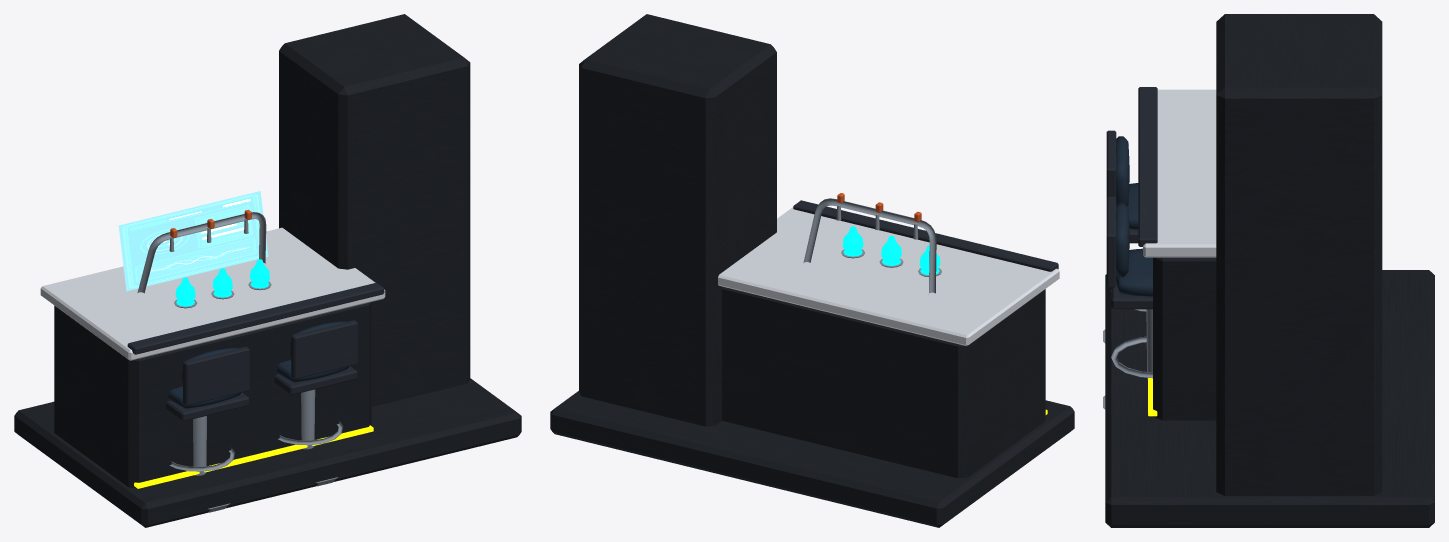
Rendered from lounge_bar_r1_01.glb.
3 renders of one model, left to right at view 1: azimuth 30°, elevation 25°; view 2: azimuth 150°, elevation 25°; view 3: azimuth 270°, elevation 25°, orthographic. The views are drawn at different scales.
Visible parts, largest first — view 1: Lounge01_OctagonalGunmetalChassis, Lounge01_AerospaceWhiteCounterAndNiches, Lounge01_CharcoalArmrestAndStoolShells, Lounge01_OLEDCelestialStarMapConsole, Lounge01_MachinedSteelSiphonArchAndPedestals, Lounge01_OrbitalNavyBarstoolCushions, Lounge01_CyanDecantersAndBulbGlasses, Lounge01_AmberDecantersAndFootrailGlow; view 2: Lounge01_OctagonalGunmetalChassis, Lounge01_AerospaceWhiteCounterAndNiches, Lounge01_CharcoalArmrestAndStoolShells, Lounge01_MachinedSteelSiphonArchAndPedestals, Lounge01_CyanDecantersAndBulbGlasses; view 3: Lounge01_OctagonalGunmetalChassis, Lounge01_AerospaceWhiteCounterAndNiches, Lounge01_CharcoalArmrestAndStoolShells, Lounge01_OrbitalNavyBarstoolCushions, Lounge01_MachinedSteelSiphonArchAndPedestals.
Part boxes in pixels (x1,y1,x2,y2): Lounge01_OctagonalGunmetalChassis: (14, 14, 521, 527); Lounge01_AerospaceWhiteCounterAndNiches: (40, 227, 385, 360); Lounge01_CharcoalArmrestAndStoolShells: (127, 282, 384, 421); Lounge01_OLEDCelestialStarMapConsole: (118, 191, 268, 291); Lounge01_MachinedSteelSiphonArchAndPedestals: (137, 212, 343, 512); Lounge01_OrbitalNavyBarstoolCushions: (168, 321, 349, 408); Lounge01_CyanDecantersAndBulbGlasses: (175, 259, 269, 306); Lounge01_AmberDecantersAndFootrailGlow: (134, 425, 373, 488); Lounge01_OctagonalGunmetalChassis: (550, 14, 1074, 527); Lounge01_AerospaceWhiteCounterAndNiches: (718, 207, 1059, 345); Lounge01_CharcoalArmrestAndStoolShells: (793, 200, 1058, 271); Lounge01_MachinedSteelSiphonArchAndPedestals: (803, 198, 941, 293); Lounge01_CyanDecantersAndBulbGlasses: (842, 226, 940, 275); Lounge01_OctagonalGunmetalChassis: (1105, 14, 1434, 527); Lounge01_AerospaceWhiteCounterAndNiches: (1143, 89, 1216, 257); Lounge01_CharcoalArmrestAndStoolShells: (1106, 87, 1157, 309); Lounge01_OrbitalNavyBarstoolCushions: (1116, 136, 1152, 296); Lounge01_MachinedSteelSiphonArchAndPedestals: (1103, 291, 1152, 409).
Size of the model in its own units: 2.25 by 1.97 by 1.36.
12 materials, 12 textured.
